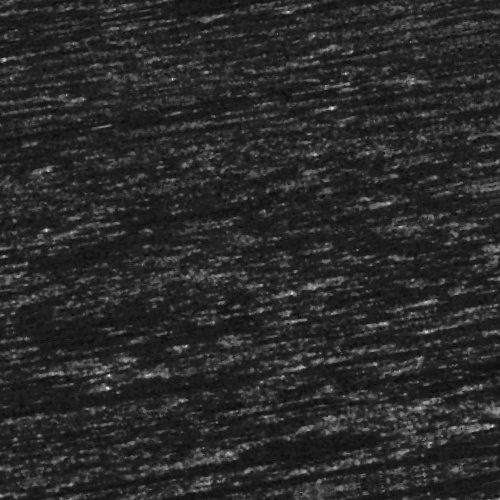object: (348, 453, 473, 464), (331, 95, 404, 100), (331, 219, 404, 224), (461, 476, 500, 485), (0, 11, 29, 20), (244, 323, 285, 326)
shadow: (28, 476, 500, 485), (162, 453, 411, 464), (274, 15, 500, 26), (0, 95, 367, 100), (339, 371, 500, 380), (4, 323, 264, 326), (448, 226, 500, 235), (283, 219, 367, 224), (437, 51, 500, 56)
